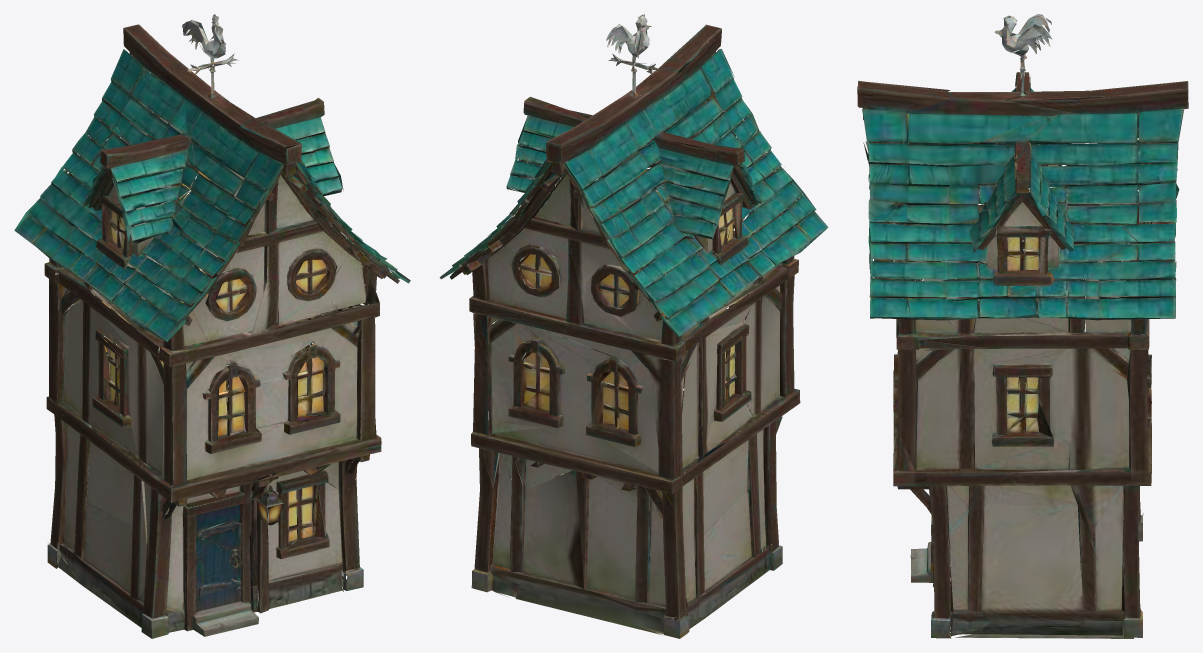
The model's file is house_b.glb.
3 renders of one model, left to right at view 1: azimuth 30°, elevation 25°; view 2: azimuth 150°, elevation 25°; view 3: azimuth 270°, elevation 25°, orthographic. The views are drawn at different scales.
Visible parts, largest first — view 1: Mesh_0; view 2: Mesh_0; view 3: Mesh_0.
Part boxes in pixels (box(x1,y1,x2,y2)): Mesh_0: box(14, 14, 410, 638); Mesh_0: box(439, 14, 828, 638); Mesh_0: box(857, 14, 1188, 638).
Size of the model in its own units: 0.8737 by 1.9 by 0.9989.
1 material, 1 textured.
